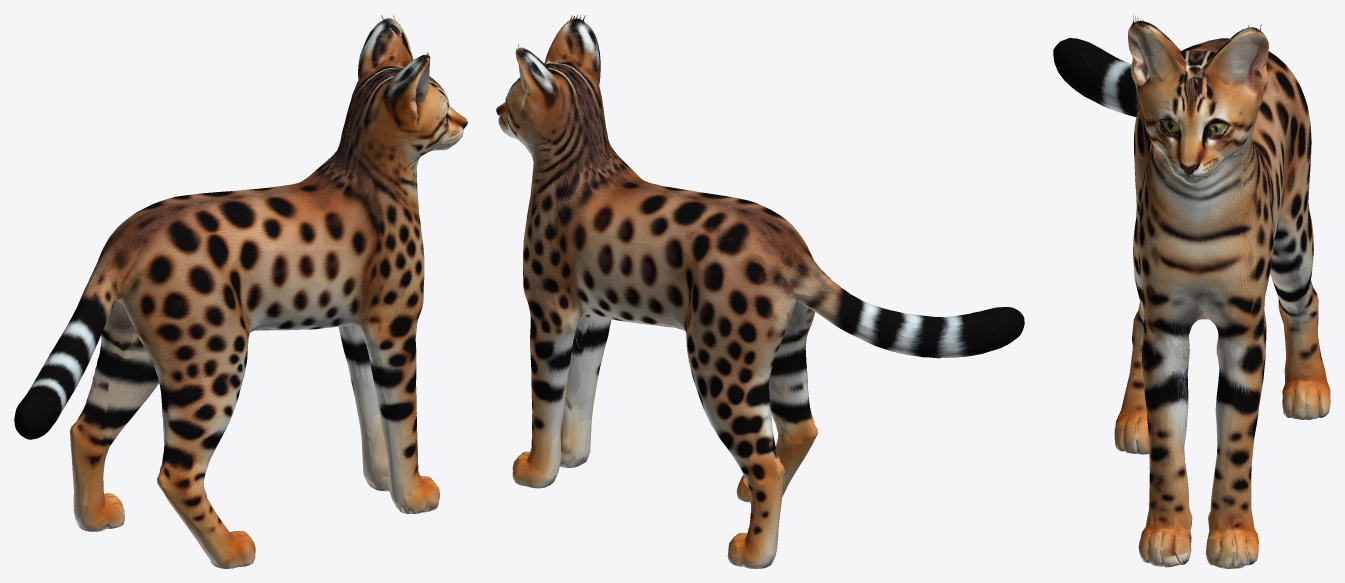
The model's file is SUSHITUNA.glb.
The picture shows the model from 3 angles, left to right: view 1: azimuth 30°, elevation 25°; view 2: azimuth 150°, elevation 25°; view 3: azimuth 270°, elevation 25°; orthographic projection. The views are drawn at different scales.
Parts seen in each view (by area): view 1: fit; view 2: fit; view 3: fit.
Boxes of the visible parts, x1,y1,x2,y2 form: fit: (14,15,467,568); fit: (496,14,1024,568); fit: (1053,14,1330,568).
Bounding box in the file's own units: 1.13 × 1 × 0.4644.
Materials: 1 (1 with a texture image).
